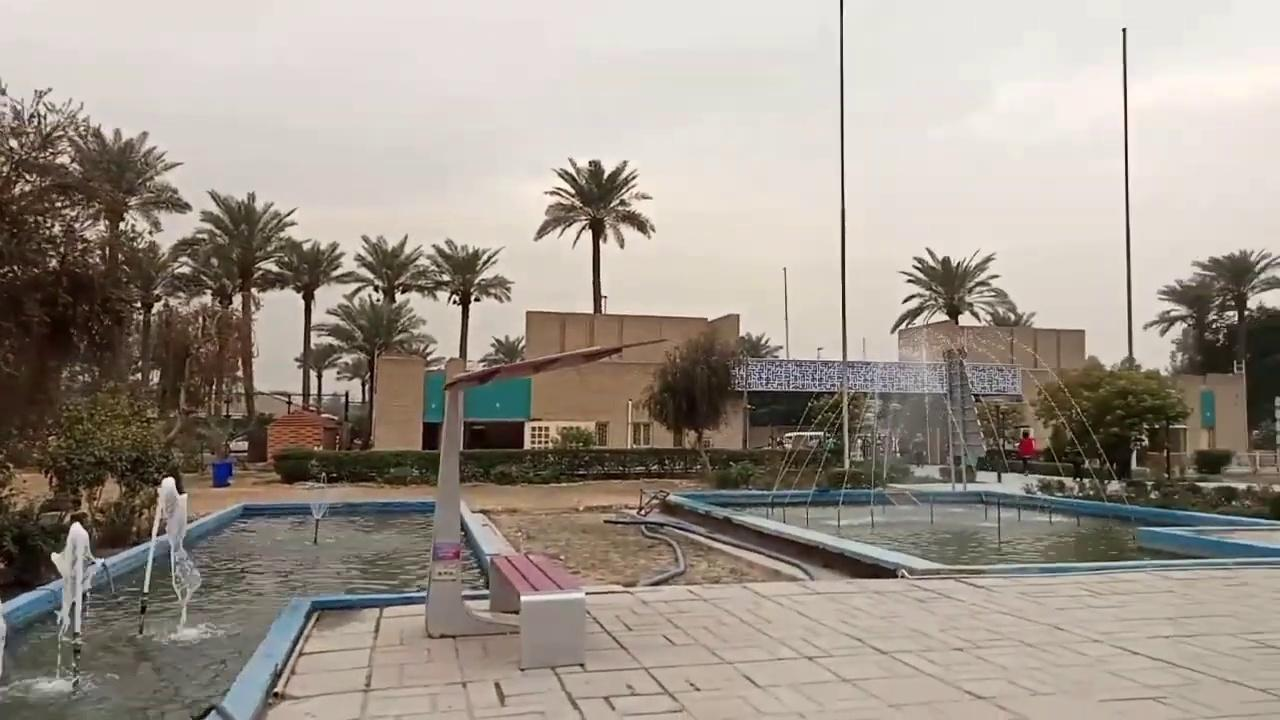fountain: (630, 324, 1278, 582), (1, 490, 517, 717), (631, 481, 1278, 580), (137, 475, 216, 644)
person: (1016, 430, 1035, 475), (910, 432, 926, 467)
tree: (43, 121, 191, 387), (169, 188, 298, 460), (0, 78, 94, 447), (889, 245, 1009, 467), (30, 383, 184, 550), (532, 156, 655, 314), (1033, 363, 1193, 480), (1189, 246, 1279, 451), (312, 293, 429, 446), (156, 297, 259, 462), (258, 236, 350, 411), (638, 330, 738, 472), (410, 237, 514, 367), (889, 245, 1006, 333), (116, 236, 176, 391), (1142, 276, 1233, 374), (1189, 246, 1279, 324), (339, 231, 427, 306), (729, 330, 783, 449), (804, 387, 883, 468), (970, 392, 1023, 470), (292, 342, 342, 413), (988, 287, 1036, 327), (478, 333, 525, 367), (732, 330, 782, 360)
